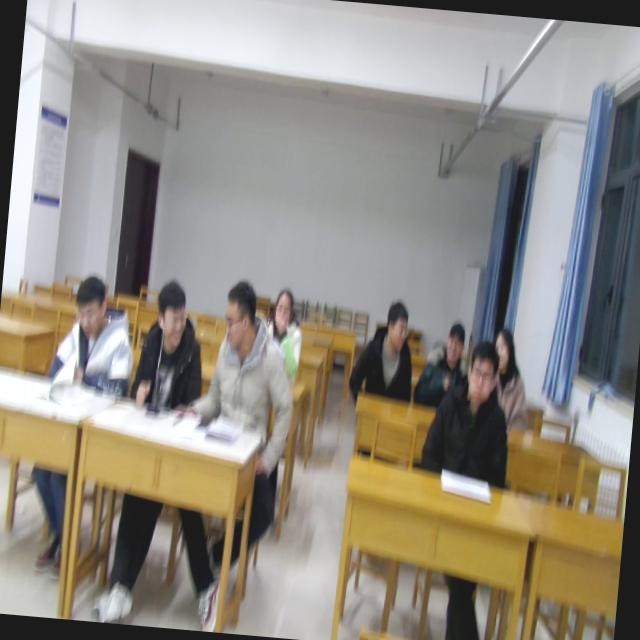down: (68, 266, 112, 341)
lookup: (462, 338, 502, 414), (490, 318, 521, 378), (267, 280, 299, 336), (439, 314, 466, 368)
sit: (173, 274, 305, 434), (418, 338, 518, 492), (41, 269, 141, 400), (130, 278, 211, 418), (345, 293, 421, 406), (412, 318, 474, 410), (484, 326, 536, 429), (257, 285, 308, 388)
